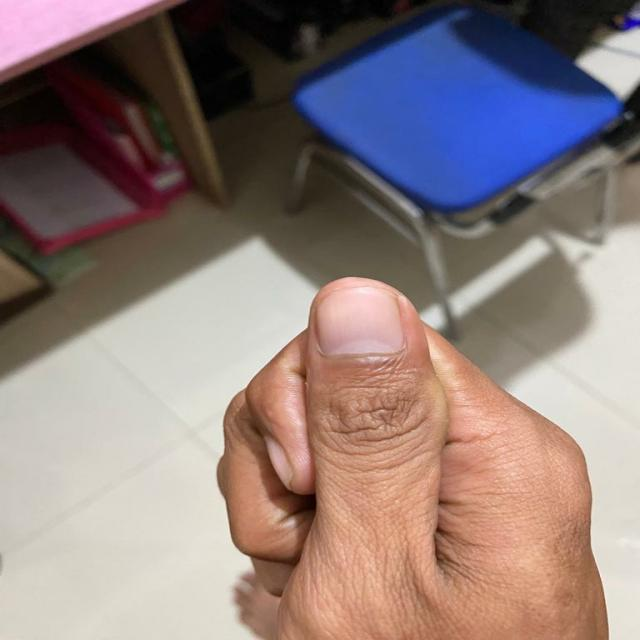sehat: (315, 285, 405, 356), (267, 436, 293, 493)
